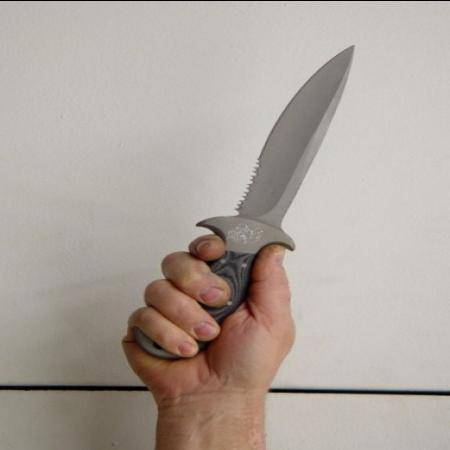long weapon: (131, 36, 363, 340)
